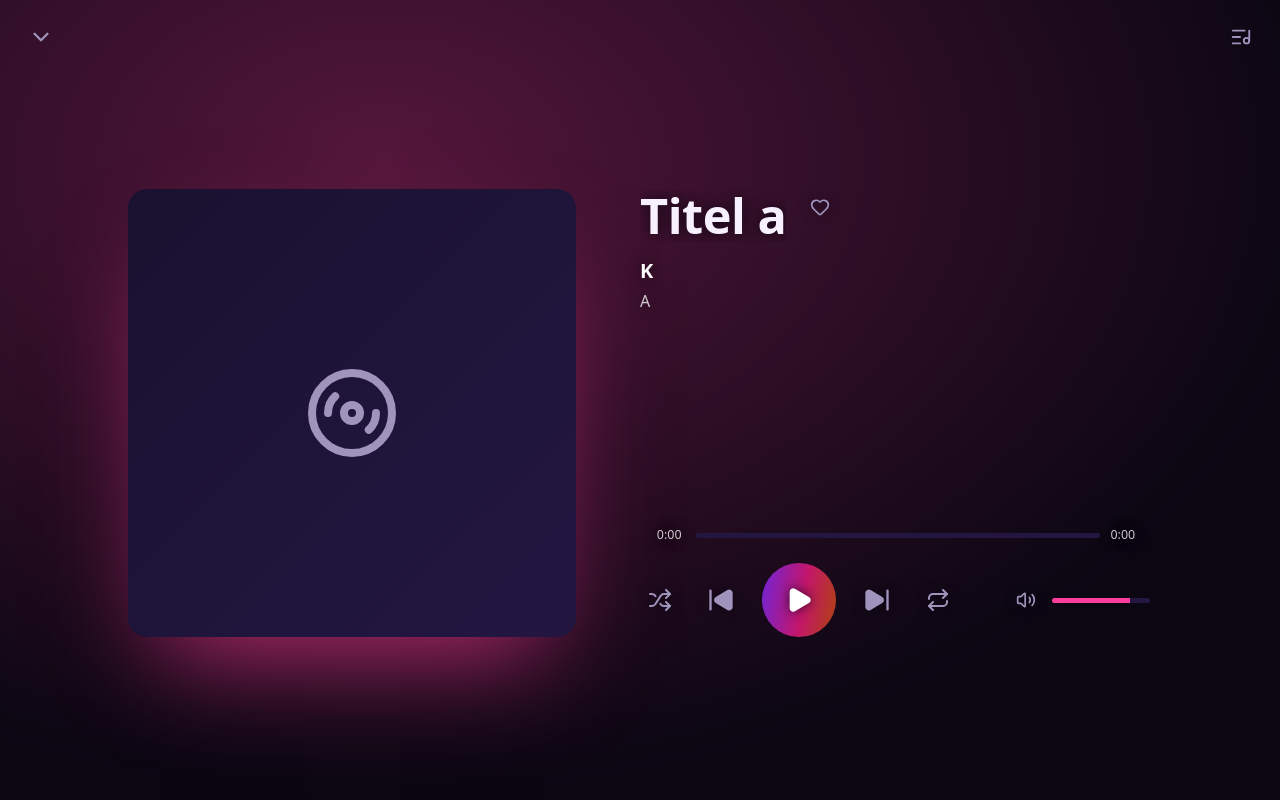
Scenario: Warteschlange im Vollbild › öffnet die Warteschlange, ohne den Vollbild-Player zu verlassen
The width and height of the screenshot is (1280, 800).
Click the button named "Warteschlange". click: (1241,37)
box: [1222,16,1260,58]
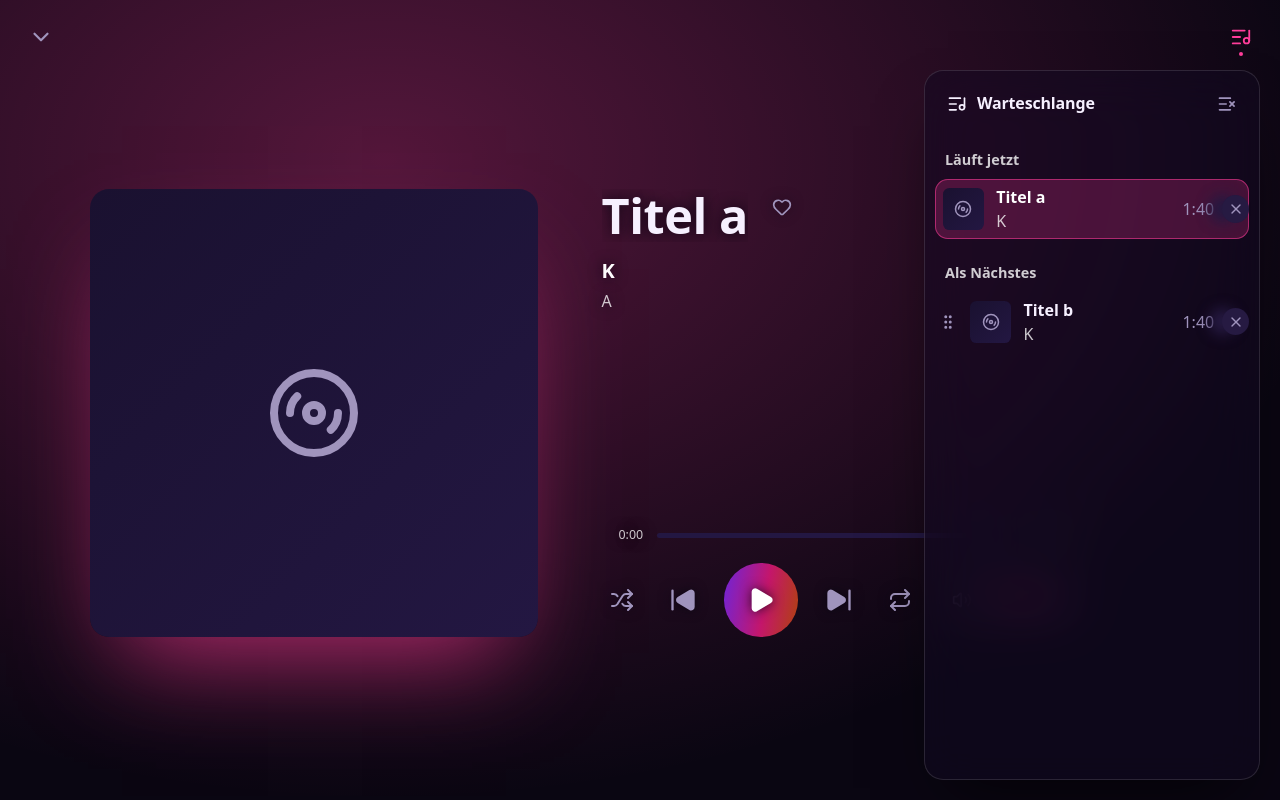
Check: the element "Warteschlange" is shown, box [924,70,1260,780]
